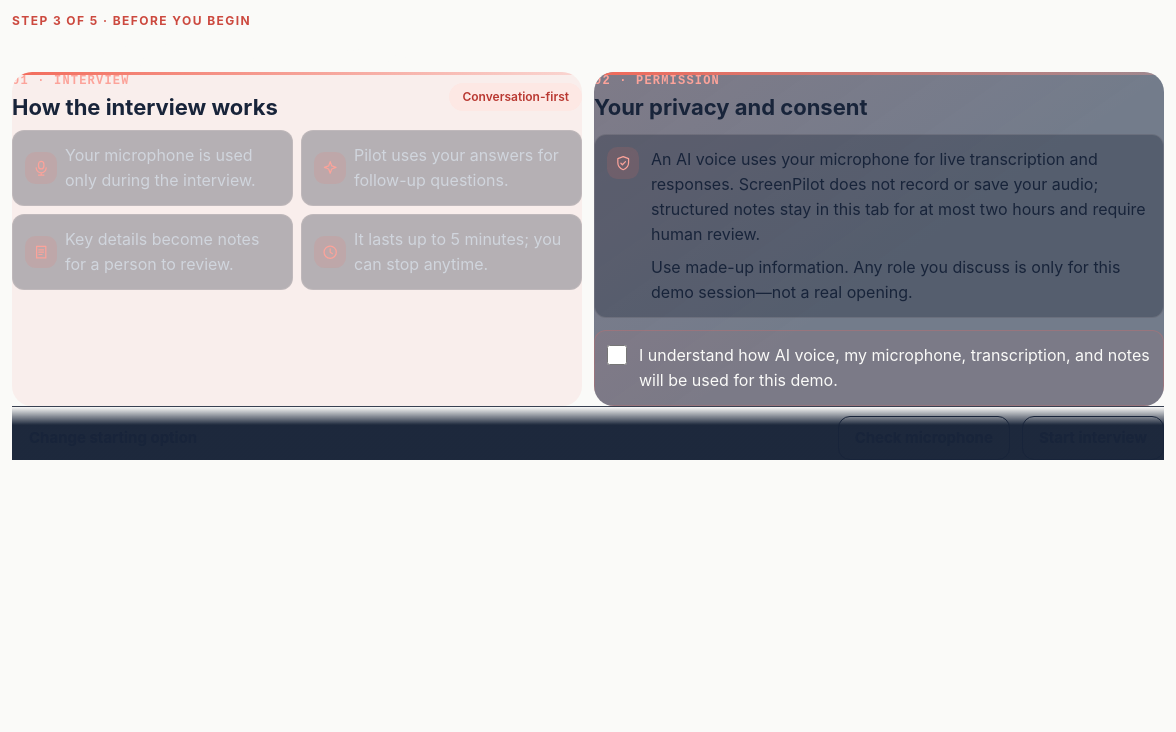
shared voice preflight › keeps Start locked for an expired grant
Click the checkbox labelled "I understand how AI voice, my microphone, transcription, and notes will be used": (617, 355) [607,345,627,365]
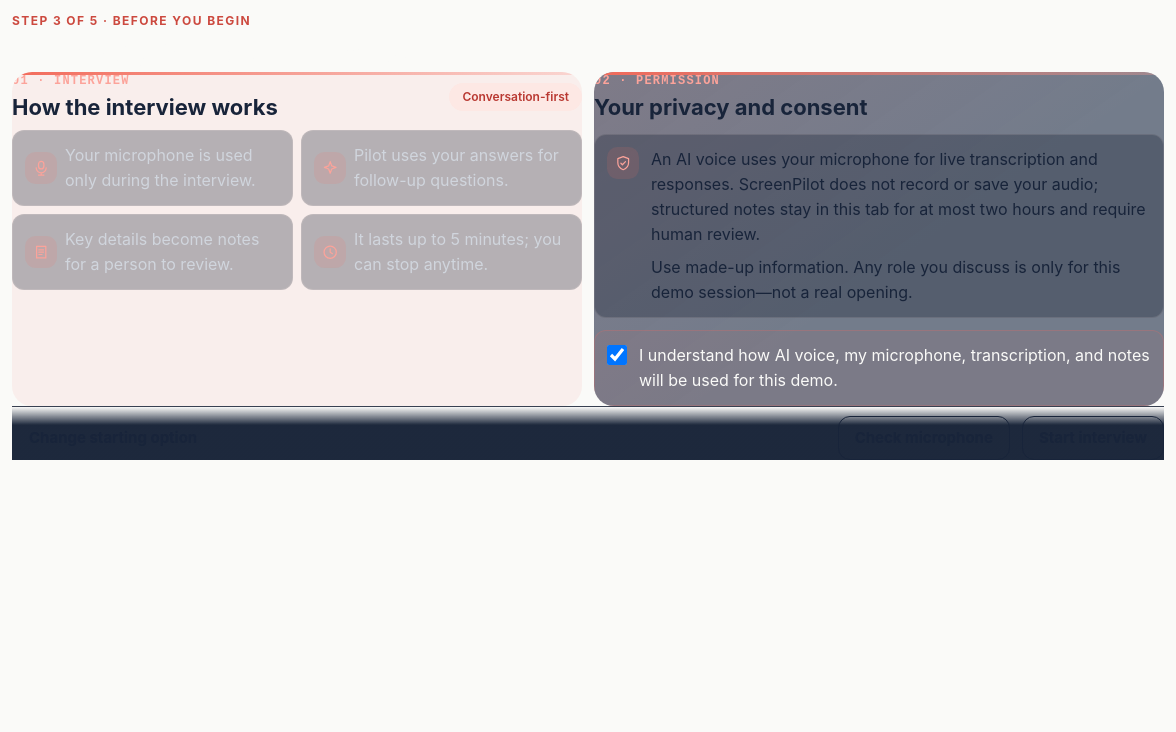
Click the button "Check microphone": (924, 438) [838,416,1010,460]
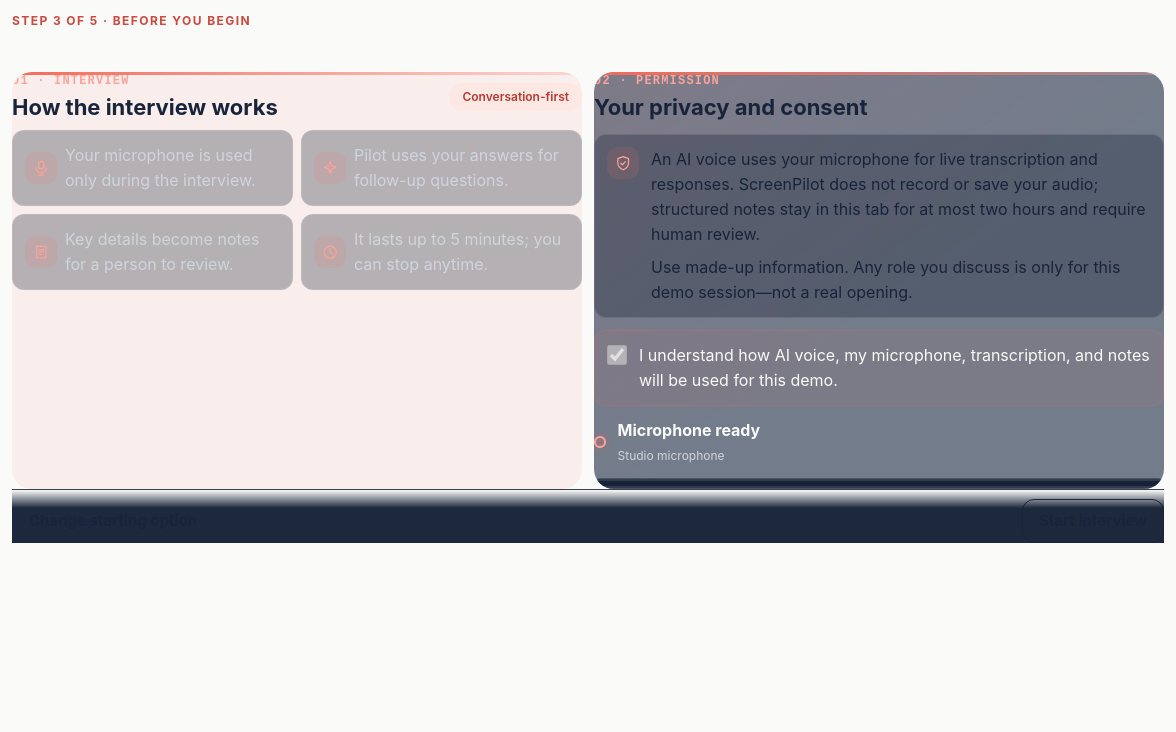
Expected: the button "Start interview" is disabled, [1022,499,1164,543]
Expected: the text "Microphone ready" is shown, [618,418,760,443]
